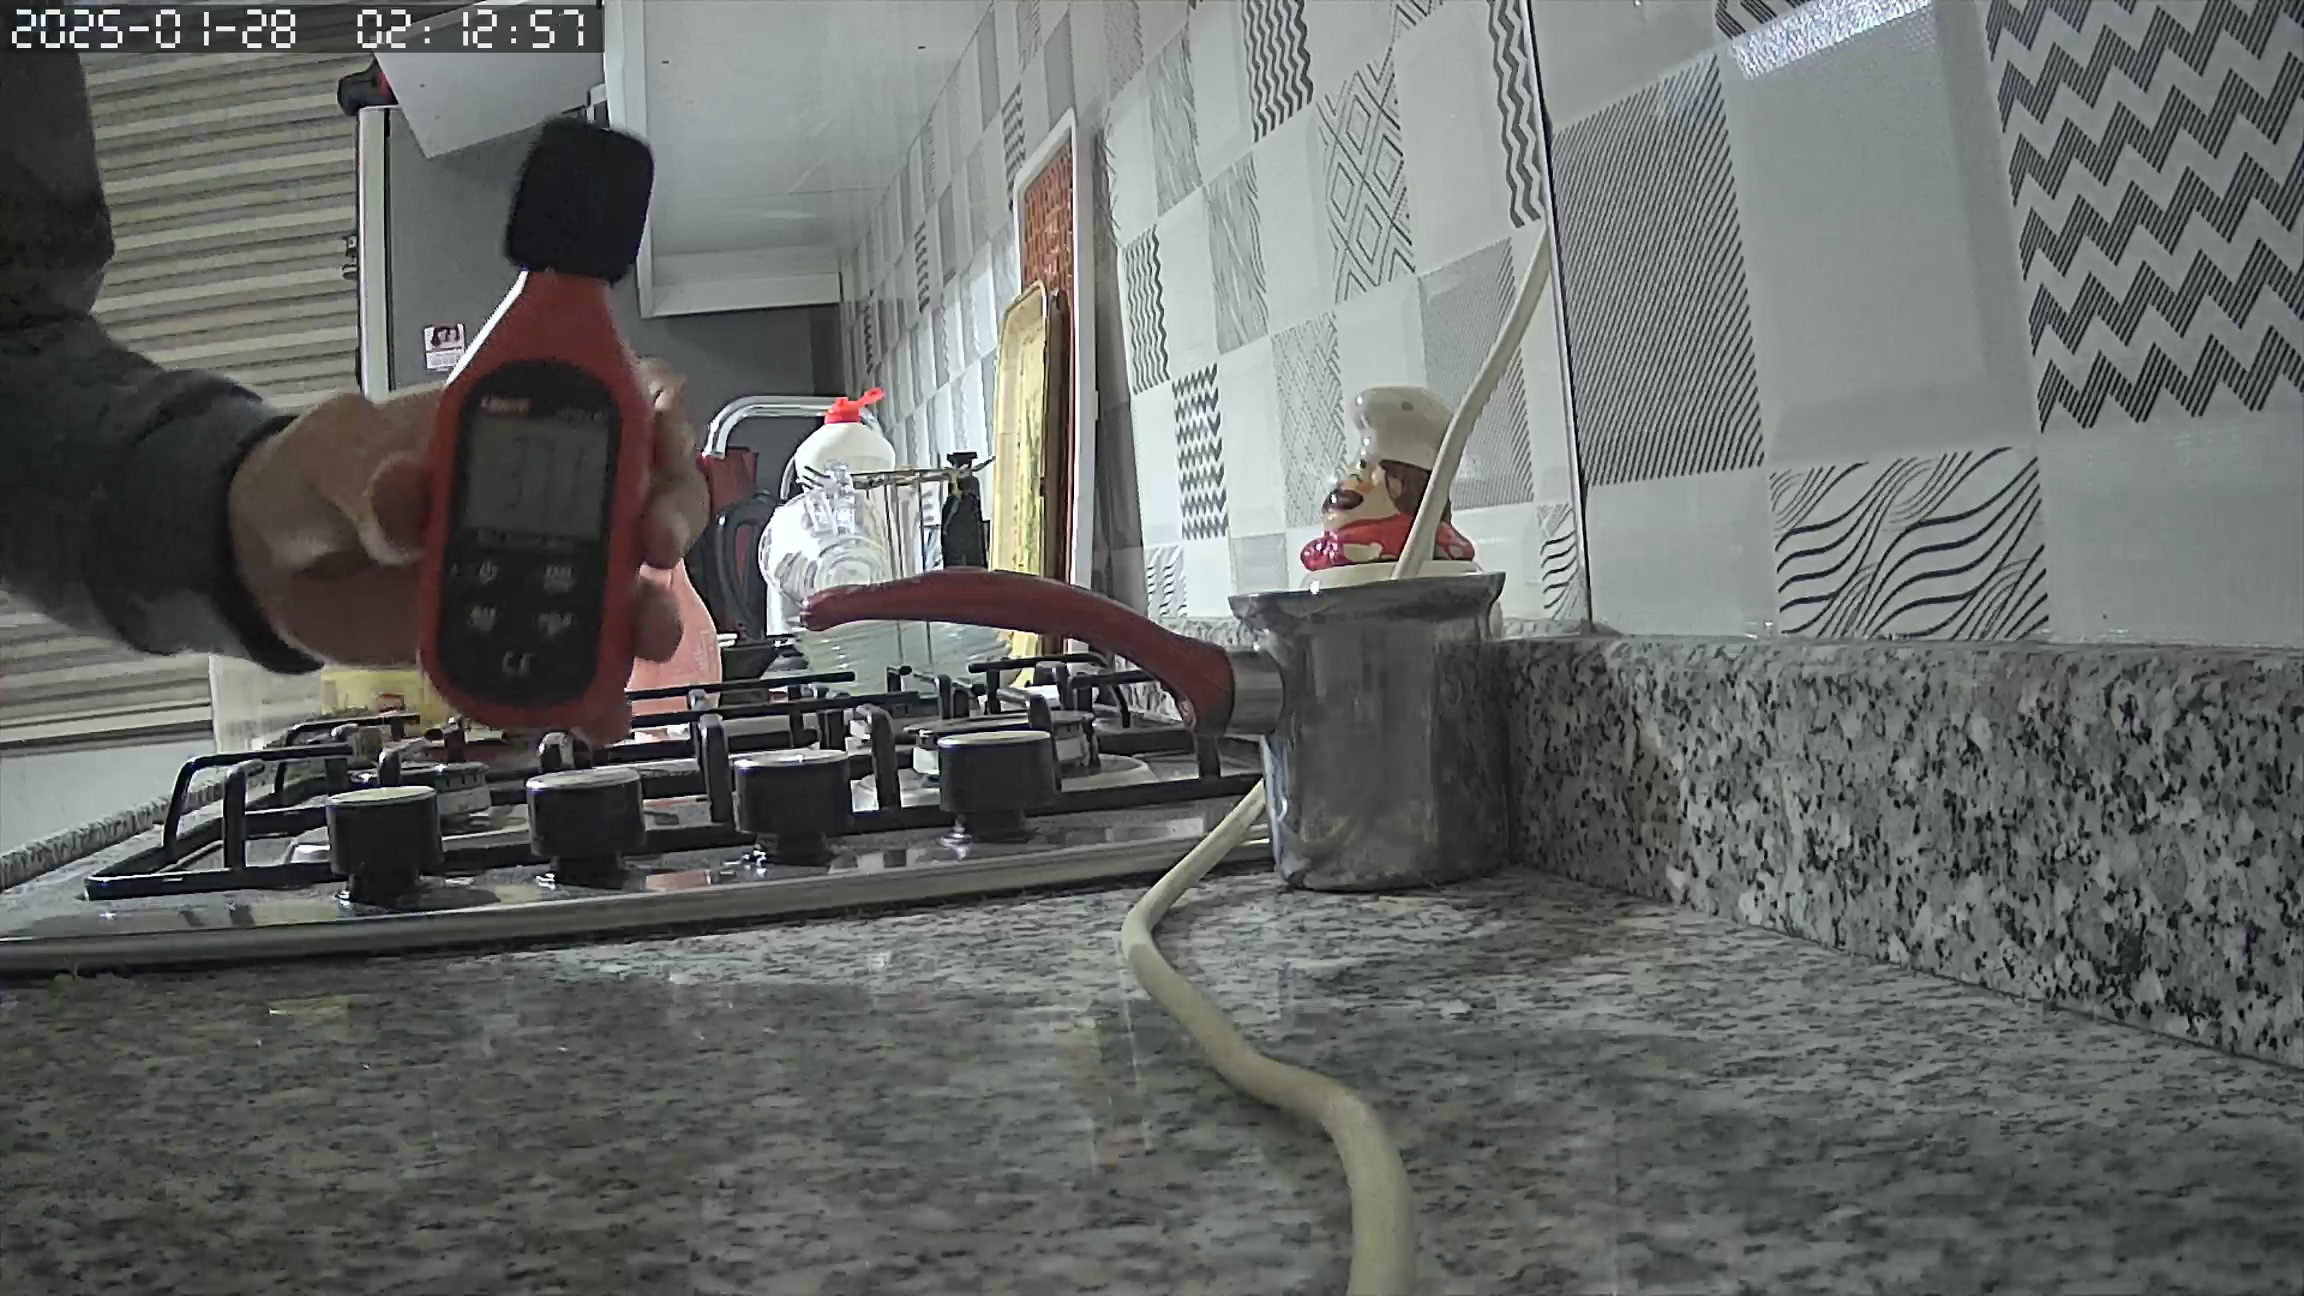screen: (459, 411, 611, 540)
